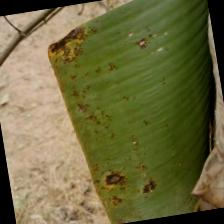pestalotiopsis: (41, 0, 224, 224)
